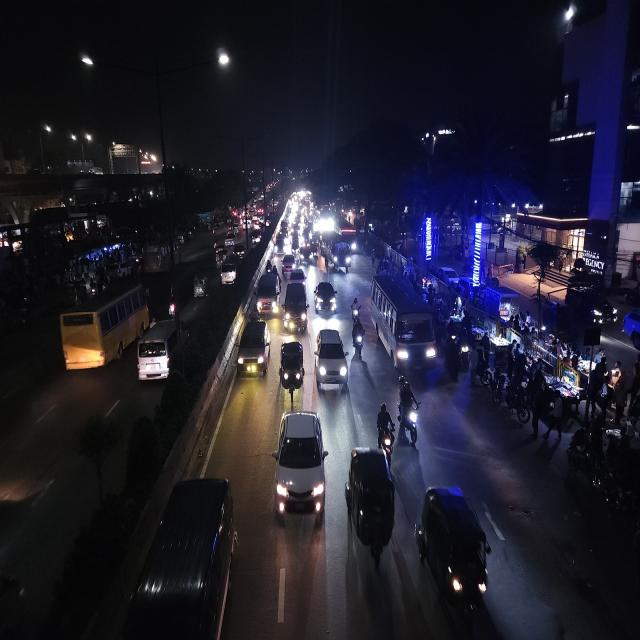bus: (56, 277, 150, 374), (370, 272, 440, 378), (327, 233, 352, 275), (340, 225, 358, 253)
car: (121, 474, 239, 640), (272, 406, 329, 526), (136, 312, 184, 388), (314, 324, 348, 394), (235, 316, 271, 382), (284, 273, 308, 335), (255, 270, 281, 318), (313, 277, 339, 320), (220, 256, 238, 288), (440, 265, 460, 287), (280, 252, 296, 276), (300, 243, 314, 265), (232, 241, 246, 260), (250, 229, 262, 245)
cng: (418, 480, 494, 633), (348, 444, 398, 567), (278, 337, 306, 400), (192, 269, 208, 302), (213, 243, 227, 265)
motorcycle: (397, 372, 420, 447), (376, 400, 395, 458), (351, 316, 366, 363), (166, 280, 180, 319), (349, 294, 361, 322), (265, 256, 275, 275)
